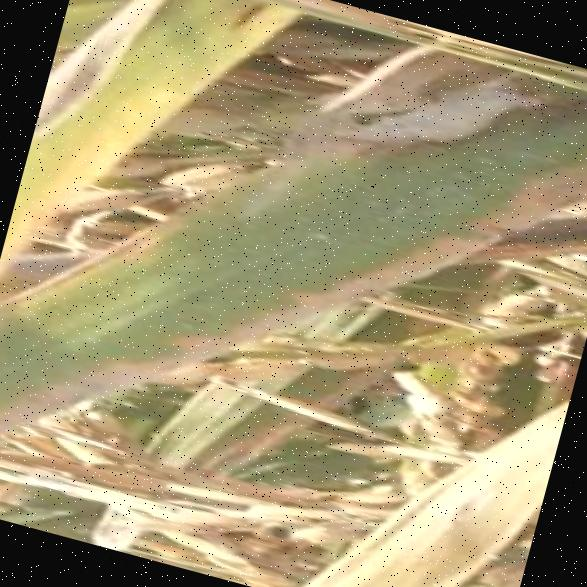Bacteria_Leaf_Blight: (0, 227, 211, 432)
